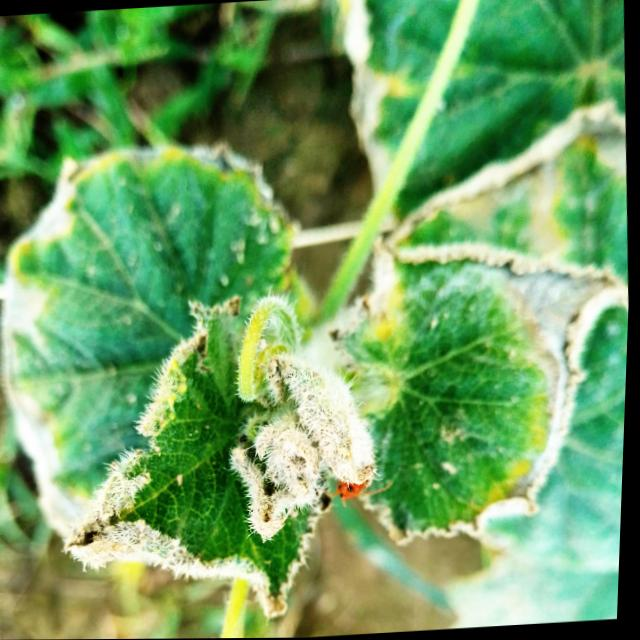Gummy-Stem-Blight: (392, 240, 628, 525)
